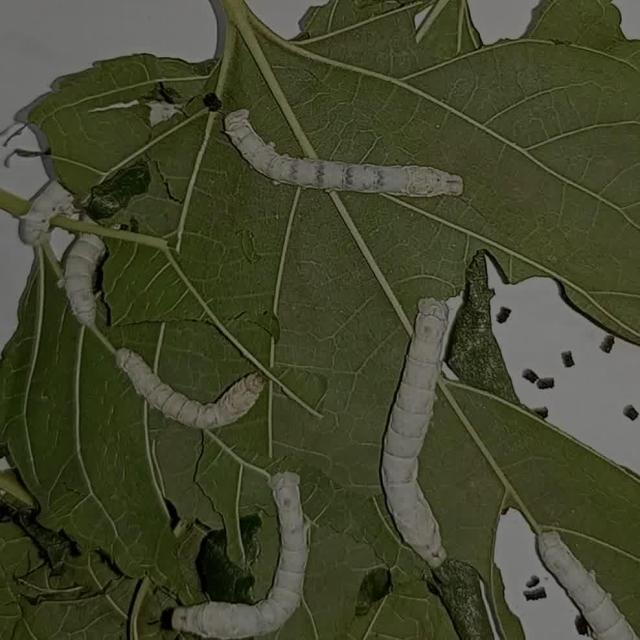Healthy: (198, 81, 474, 226), (365, 268, 468, 574), (162, 457, 328, 640), (111, 334, 276, 442)
